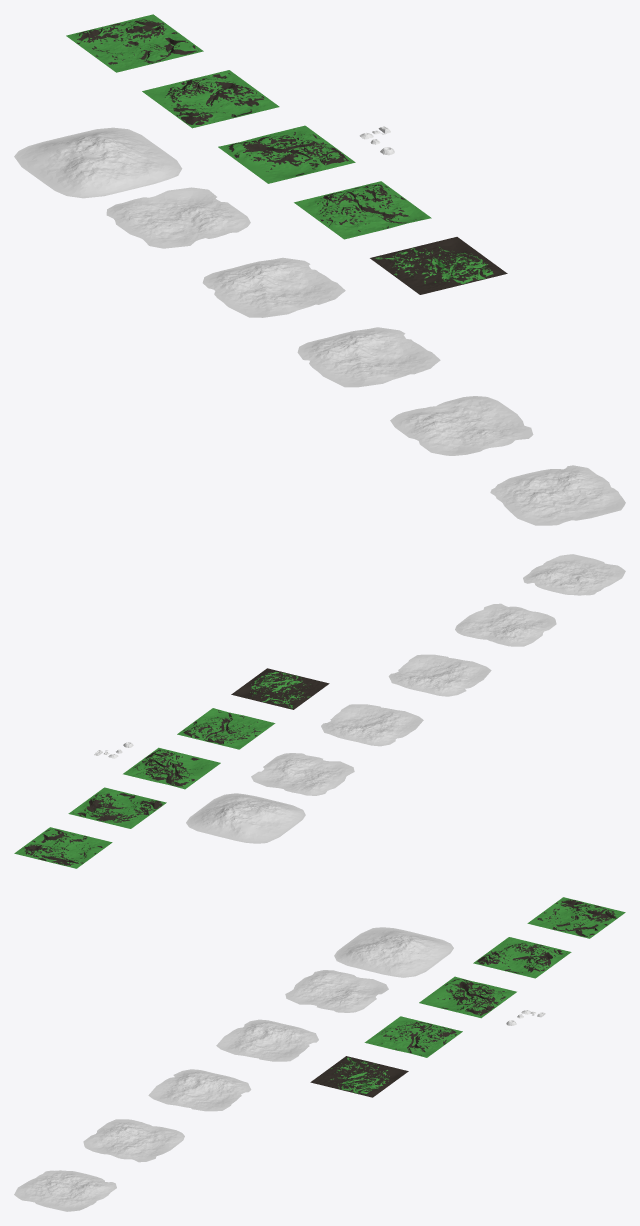
Rendered from Terrain.fbx.
3 views of the same model, one above another, from view 1: azimuth 30°, elevation 25°; view 2: azimuth 150°, elevation 25°; view 3: azimuth 330°, elevation 25° (orthographic). The views are drawn at different scales.
Parts seen in each view (by area): view 1: Terrain 01, Terrain 05, Terrain 03, Terrain 04, Terrain 02, Terrain 06, Trenches 04, Trenches 03, Trenches 02, Trenches 05, Trenches 01; view 2: Terrain 01, Terrain 05, Terrain 03, Terrain 02, Terrain 04, Terrain 06, Trenches 02, Trenches 03, Trenches 04, Trenches 01, Trenches 05; view 3: Terrain 01, Terrain 05, Terrain 03, Terrain 02, Terrain 04, Terrain 06, Trenches 02, Trenches 03, Trenches 04, Trenches 05, Trenches 01.
Part boxes in pixels (x1,y1,x2,y2): Terrain 01: (14,127,182,198); Terrain 05: (106,187,250,248); Terrain 03: (297,327,440,387); Terrain 04: (202,257,345,317); Terrain 02: (390,396,533,455); Terrain 06: (490,465,625,525); Trenches 04: (66,14,203,72); Trenches 03: (142,70,279,128); Trenches 02: (370,237,507,294); Trenches 05: (294,181,431,239); Trenches 01: (218,125,355,183); Terrain 01: (186,793,305,843); Terrain 05: (251,753,354,795); Terrain 03: (388,654,491,696); Terrain 02: (455,603,556,646); Terrain 04: (321,704,423,746); Terrain 06: (523,554,625,595); Trenches 02: (231,668,329,709); Trenches 03: (68,787,166,828); Trenches 04: (14,827,112,868); Trenches 01: (123,747,220,789); Trenches 05: (177,708,275,749); Terrain 01: (334,927,453,977); Terrain 05: (285,970,388,1012); Terrain 03: (148,1069,251,1111); Terrain 02: (83,1119,184,1162); Terrain 04: (216,1019,318,1061); Terrain 06: (14,1170,116,1211); Trenches 02: (310,1056,408,1097); Trenches 03: (473,937,571,978); Trenches 04: (527,897,625,938); Trenches 05: (364,1016,462,1057); Trenches 01: (419,976,516,1018).
Bounding box in the file's own units: 12800 × 608 × 44493.
